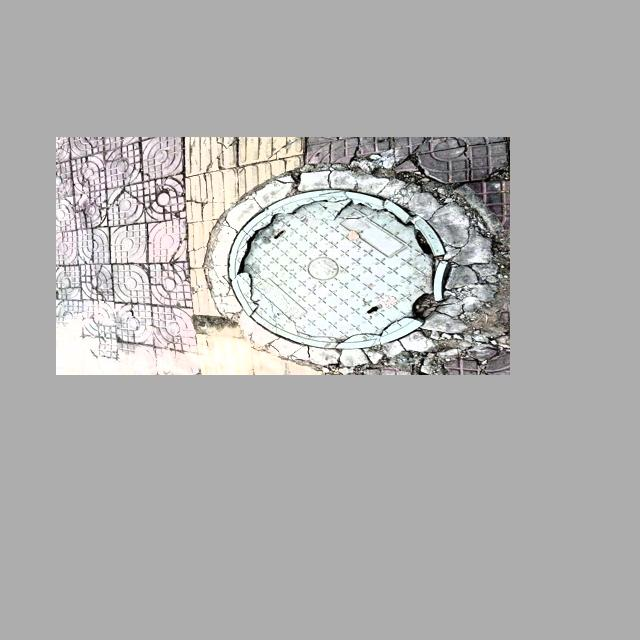circle: (198, 164, 491, 364)
